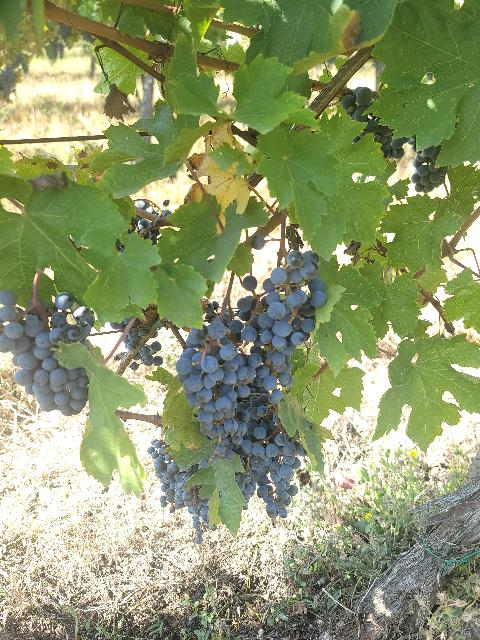grapes: (0, 290, 95, 416), (176, 316, 268, 430), (148, 439, 218, 544), (256, 250, 326, 355), (256, 432, 299, 518)
